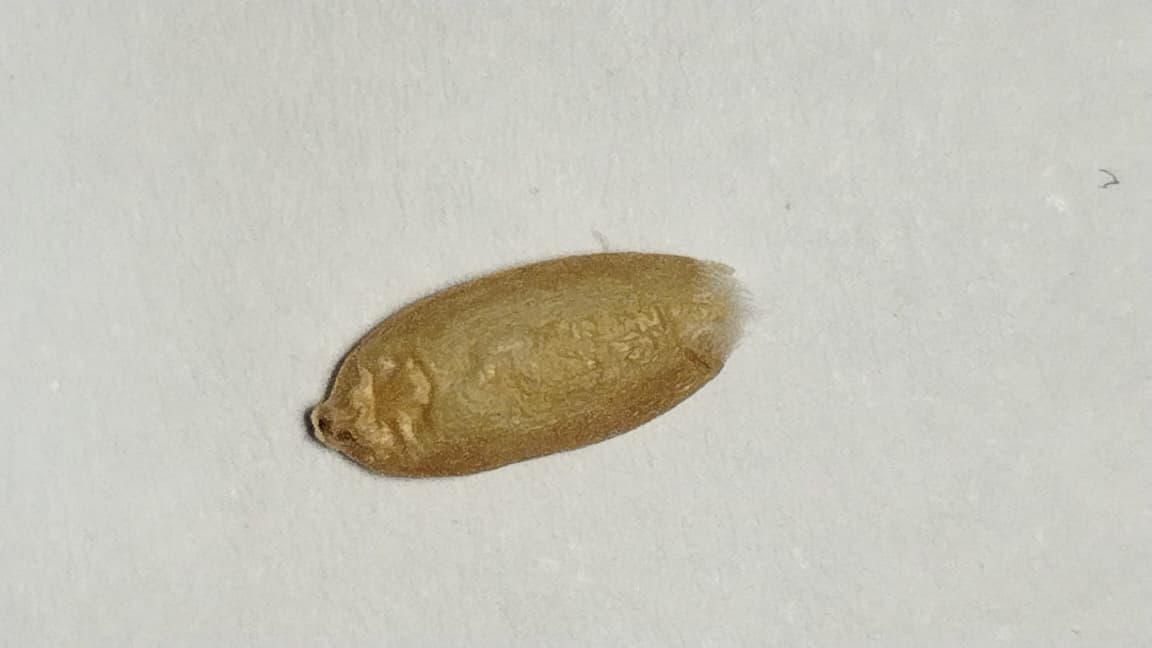healthy: (311, 251, 748, 475)
